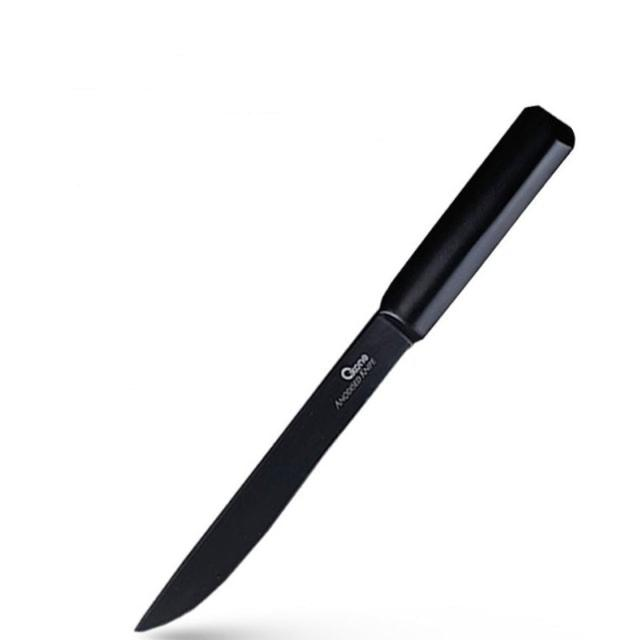Knife: (135, 106, 574, 631)
